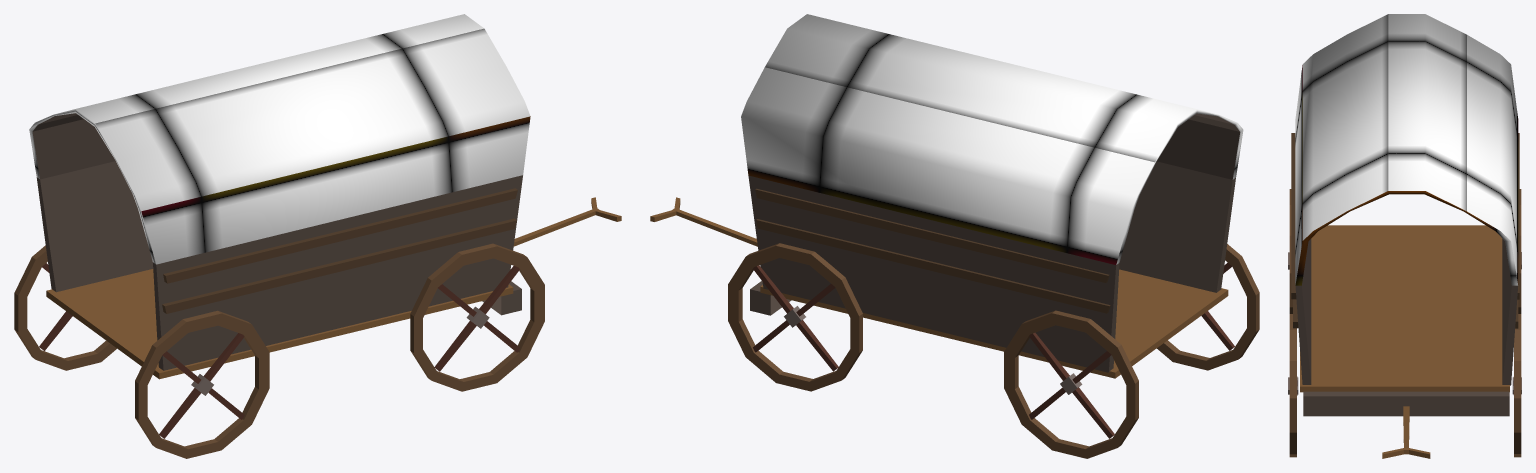
Rendered from wagon.dae.
The picture shows the model from 3 angles, left to right: view 1: azimuth 30°, elevation 25°; view 2: azimuth 150°, elevation 25°; view 3: azimuth 270°, elevation 25°; orthographic projection. The views are drawn at different scales.
Visible parts, largest first — view 1: WesternCart.001; view 2: WesternCart.001; view 3: WesternCart.001.
Part boxes in pixels (box(x1,y1,x2,y2)): WesternCart.001: box(14, 14, 621, 458); WesternCart.001: box(650, 14, 1259, 458); WesternCart.001: box(1288, 14, 1521, 458).
Bounding box in the file's own units: 6.09 × 2.49 × 3.35.
